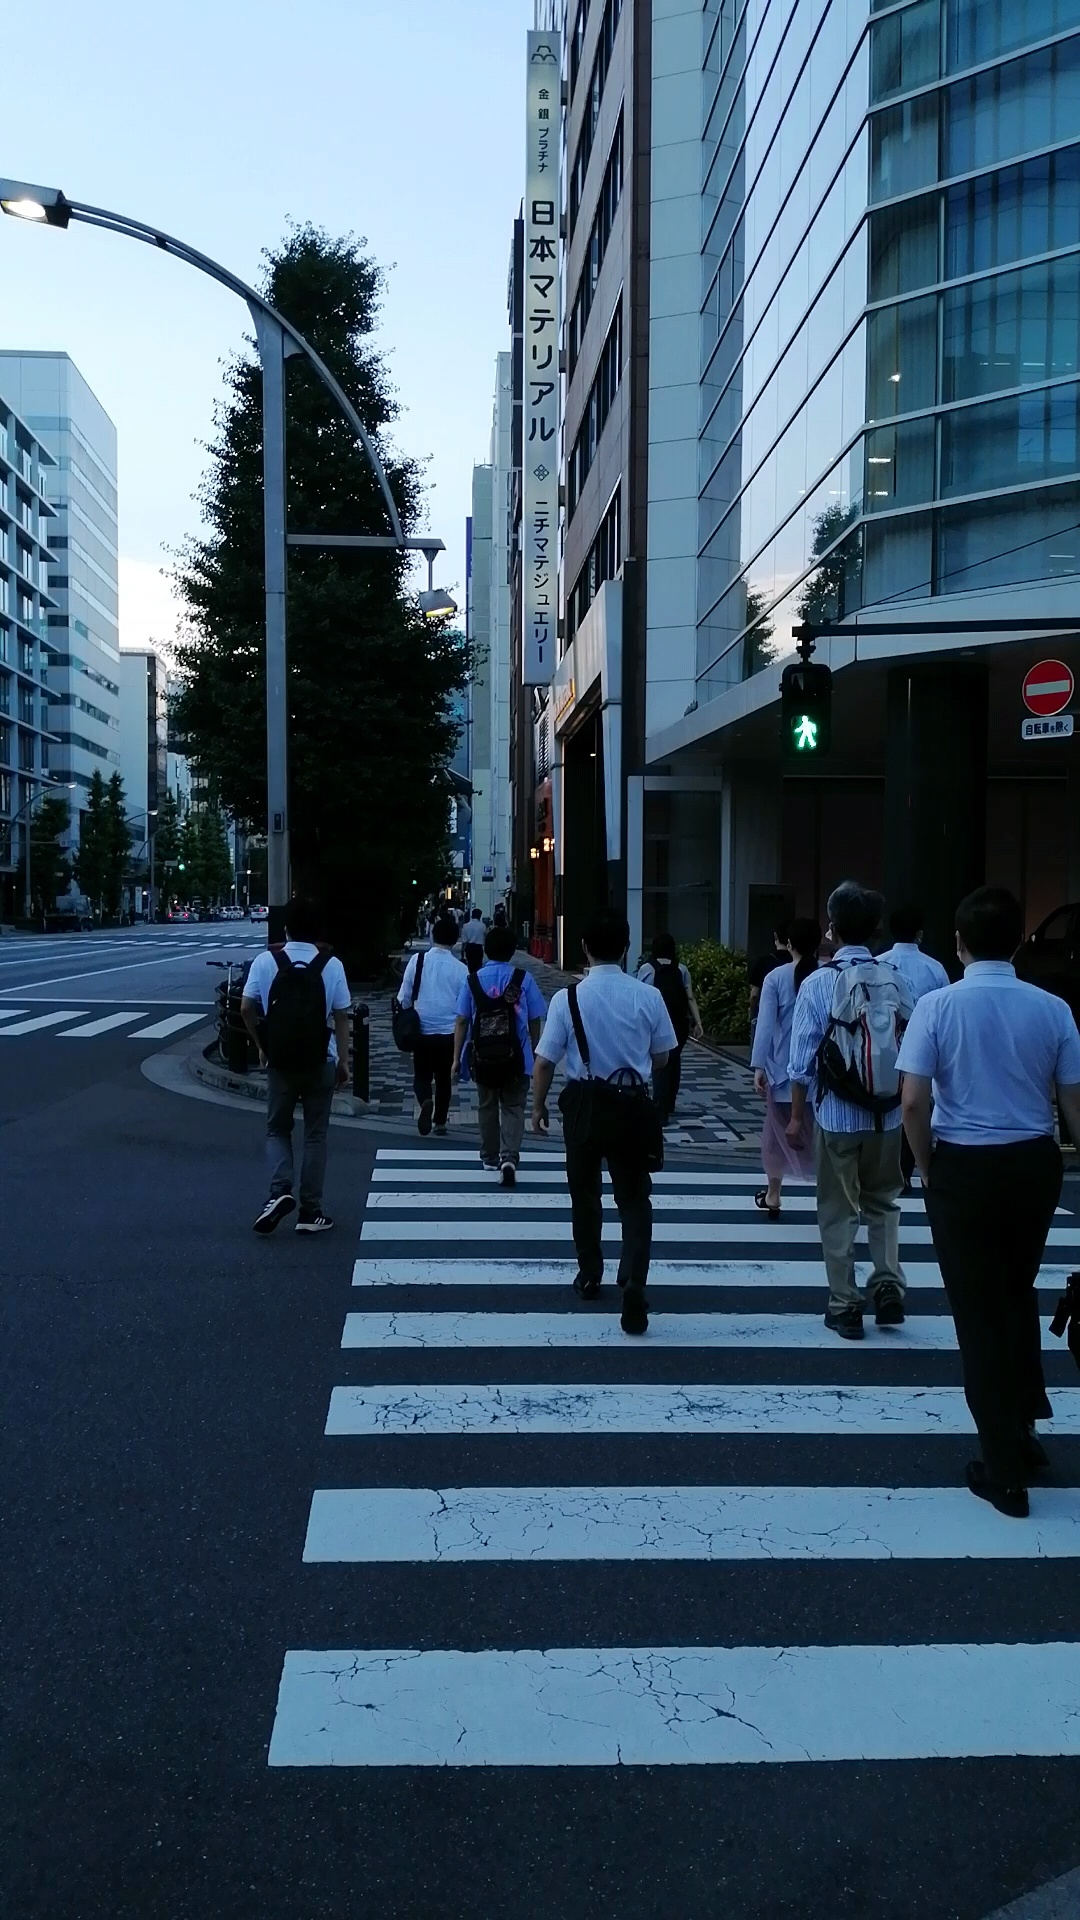green: (781, 662, 831, 765)
